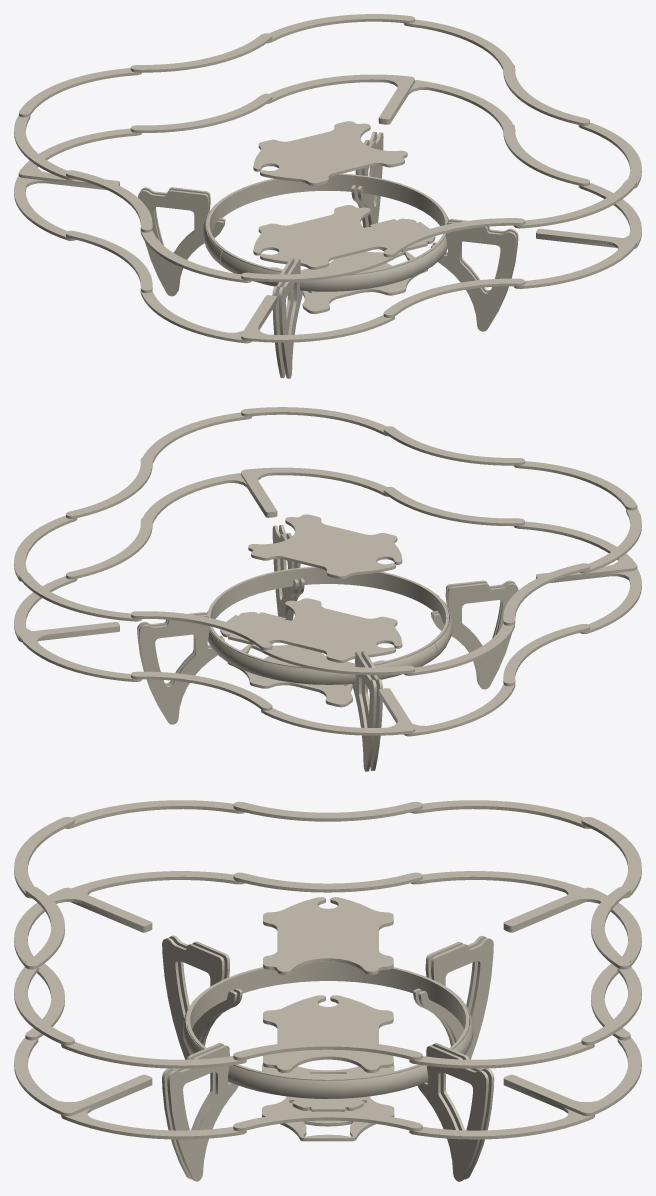
Rendered from clover_guards.glb.
3 renders of one model, top to bottom at view 1: azimuth 30°, elevation 25°; view 2: azimuth 150°, elevation 25°; view 3: azimuth 270°, elevation 25°, orthographic. The views are drawn at different scales.
Visible parts, largest first — view 1: Transparent_parts; view 2: Transparent_parts; view 3: Transparent_parts.
Part boxes in pixels (x1=…): Transparent_parts: x1=14, y1=14, x2=641, y2=378; Transparent_parts: x1=14, y1=407, x2=641, y2=771; Transparent_parts: x1=14, y1=800, x2=641, y2=1181.
Bounding box in the file's own units: 0.355 × 0.1228 × 0.355.
